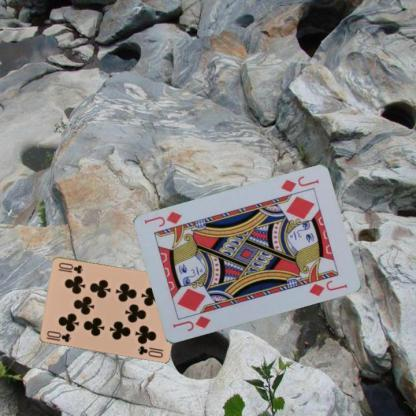10c: (44, 328, 72, 343)
Jd: (276, 173, 320, 194), (170, 313, 212, 333)
